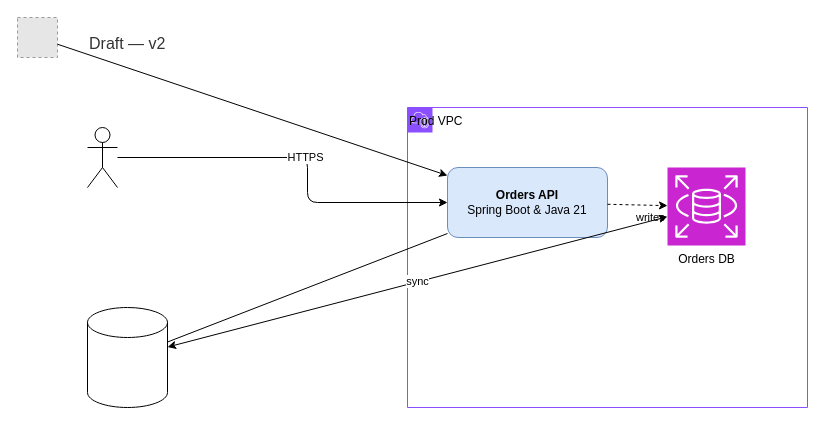
This 825x425 diagram has some shape labels left out. Grey dashed boxes stand in for pictures. The shapes that lost their labels are listed below. From the top down, each one's centre as x and y in pixels, then its label:
point (102, 157): Customer
point (127, 357): Session store
